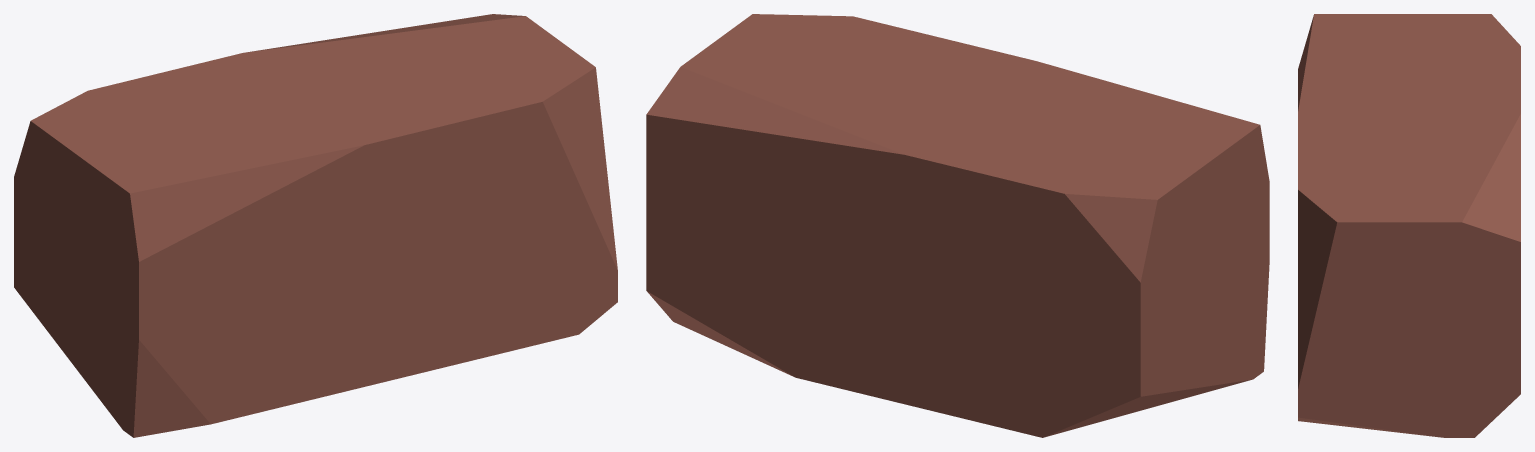
Rendered from Brick_B_04.FBX.
The picture shows the model from 3 angles, left to right: view 1: azimuth 30°, elevation 25°; view 2: azimuth 150°, elevation 25°; view 3: azimuth 270°, elevation 25°; orthographic projection. The views are drawn at different scales.
Parts seen in each view (by area): view 1: Brick_B_04; view 2: Brick_B_04; view 3: Brick_B_04.
Part boxes in pixels (x1,y1,x2,y2): Brick_B_04: (14,14,617,437); Brick_B_04: (646,14,1269,437); Brick_B_04: (1298,14,1520,437).
Bounding box in the file's own units: 1.56 × 0.7527 × 0.7055.
